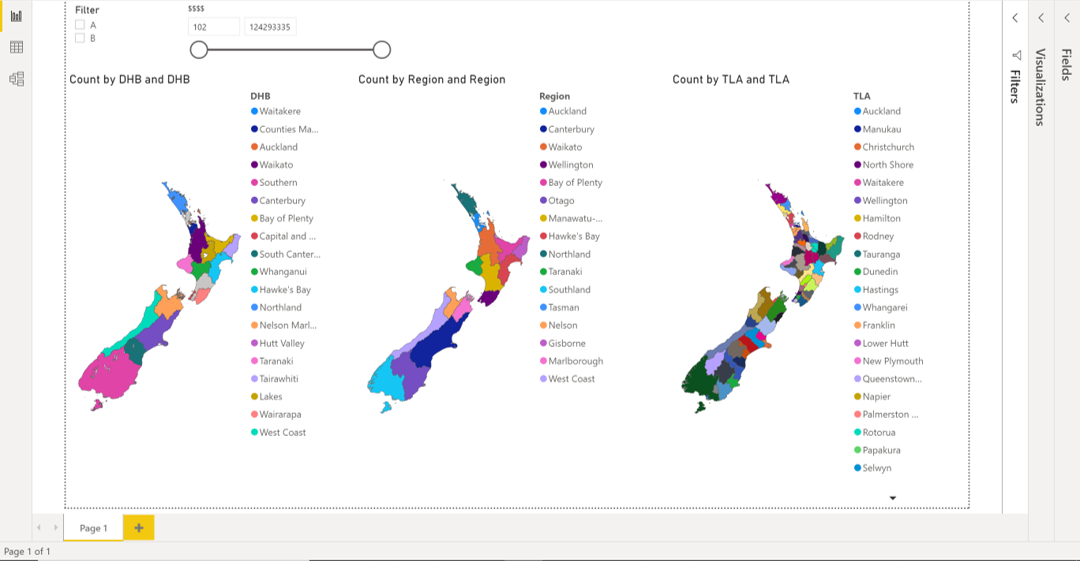

This screenshot's page, from the dashboard's own definition file:
{"tool":"powerbi","page":{"name":"Page 1","canvas":[1280,720],"ordinal":0},"visuals":[{"type":"shapeMap","fields":{"Category":["Sheet1.DHB"],"Value":["Sum(Sheet1.Count)"],"Series":["Sheet1.DHB"]},"box":[0,102.3,376.5,617.8],"z":0},{"type":"shapeMap","fields":{"Value":["Sum(Sheet1.Count)"],"Category":["Sheet1.Region"],"Series":["Sheet1.Region"]},"box":[409.3,102.3,376.5,617.8],"z":1},{"type":"shapeMap","fields":{"Value":["Sum(Sheet1.Count)"],"Category":["Sheet1.TLA"],"Series":["Sheet1.TLA"]},"box":[855.3,102.3,376.5,617.8],"z":2},{"type":"slicer","fields":{"Values":["Sheet1.Filter"]},"box":[0,0,276.1,75.3],"z":3},{"type":"slicer","fields":{"Values":["Sheet1.$$$$"]},"box":[160.2,0,308.9,104.3],"z":4}]}

Visuals, with their boxes on the page's 1280x720 design canvas (x1, y1, x2, y2). These are canvas units, not pixel positions in the 1080x561 screenshot, which may show the page scaled, cropped or inside an application window:
shapeMap - Sheet1.DHB x Sum(Sheet1.Count): (x1=0, y1=102, x2=376, y2=720)
shapeMap - Sum(Sheet1.Count) x Sheet1.Region: (x1=409, y1=102, x2=786, y2=720)
shapeMap - Sum(Sheet1.Count) x Sheet1.TLA: (x1=855, y1=102, x2=1232, y2=720)
slicer - Sheet1.Filter: (x1=0, y1=0, x2=276, y2=75)
slicer - Sheet1.$$$$: (x1=160, y1=0, x2=469, y2=104)
